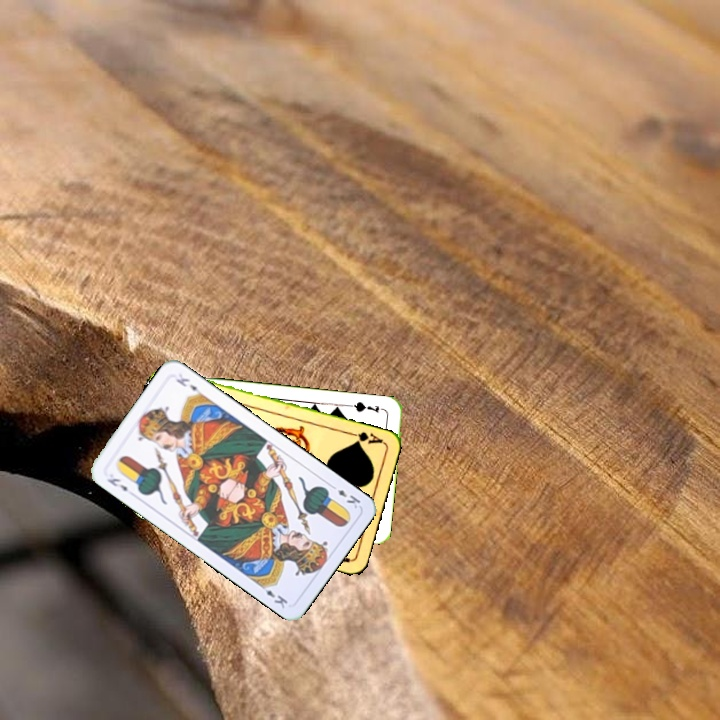EK: (326, 480, 363, 511), (103, 474, 130, 494)
G7: (347, 397, 382, 415)
GA: (345, 427, 386, 447)
